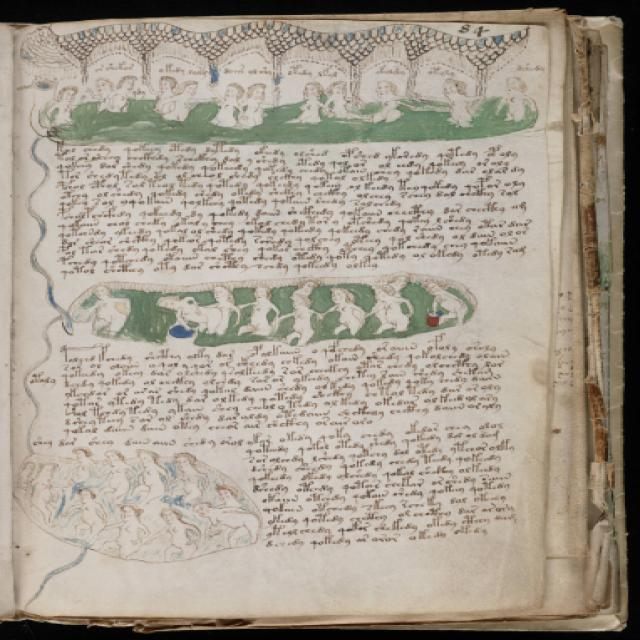people: (37, 73, 546, 137), (77, 269, 479, 346), (10, 444, 265, 564)
person: (151, 291, 224, 337), (281, 279, 323, 348), (84, 283, 133, 339), (418, 278, 471, 328), (437, 76, 484, 130), (369, 283, 415, 337), (319, 287, 366, 336), (493, 75, 538, 124), (239, 281, 276, 338), (286, 79, 328, 127), (209, 80, 247, 131), (370, 80, 413, 124), (44, 86, 87, 130), (238, 79, 271, 132), (323, 81, 362, 123), (100, 76, 143, 114), (169, 79, 204, 125), (211, 284, 241, 336), (151, 75, 179, 117)
